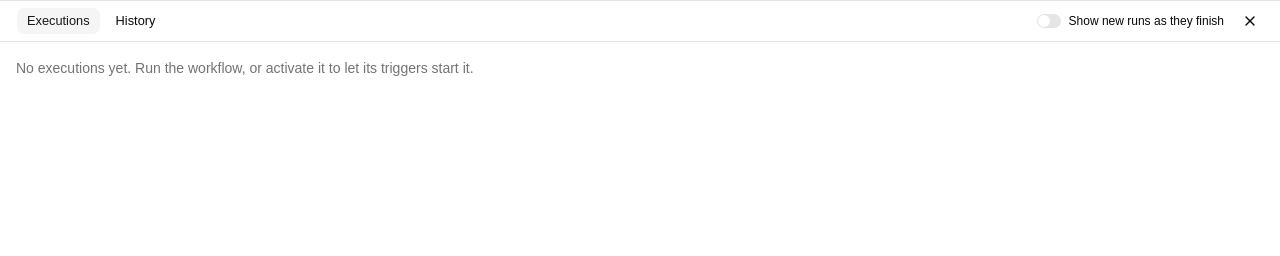
Test case: history panel (D433) › opens on the executions, and says who switched it and why
Expected: the text "No executions yet" is shown, [16,60,474,76]
What coordinates should you click on to do the following:
click the tab "History"
I would click on:
 (136, 21)
Its box is [105,7,166,35].
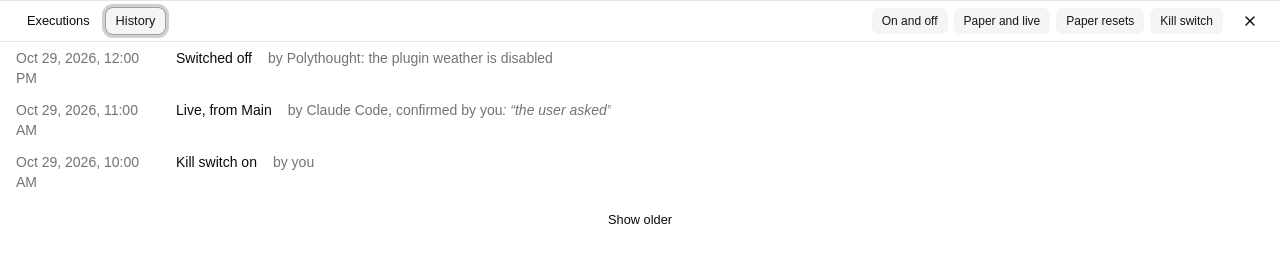
Expected: the text "Switched off" is shown, [176,48,252,68]
Expected: the label labelled "Show new runs as they finish" is gone
What coordinates should you click on to do the following:
click the button "Show older"
I would click on:
 (640, 220)
Its box is [597,206,683,234].
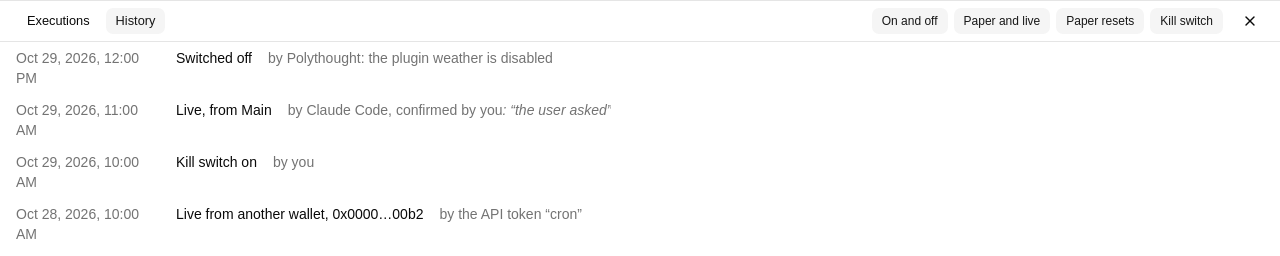
Expected: the text "Live from another wallet, 0x0000…00b2" is shown, [176,204,424,224]
Expected: the text "by the API token “cron”" is shown, [440,204,582,224]
Expected: the button "Show older" is gone
